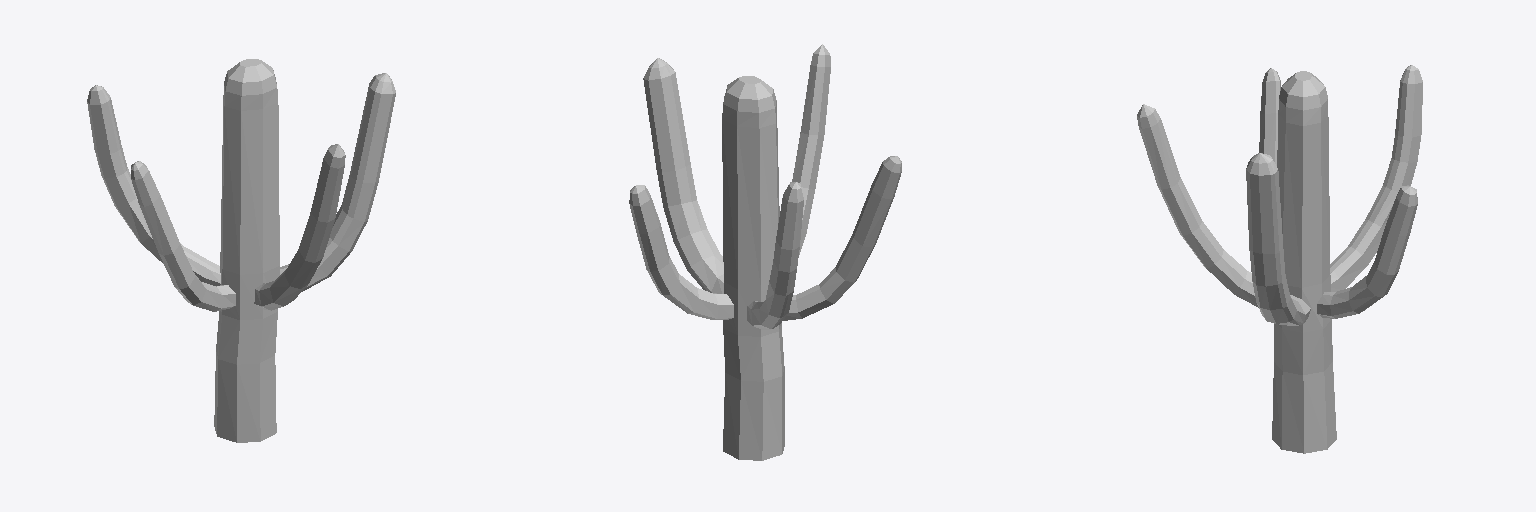
The model's file is Cactus5.obj.
The picture shows the model from 3 angles: view 1: azimuth 30°, elevation 25°; view 2: azimuth 150°, elevation 25°; view 3: azimuth 270°, elevation 25°; orthographic projection.
Visible parts, largest first — view 1: cactus_5; view 2: cactus_5; view 3: cactus_5.
Boxes of the visible parts, <box> form: cactus_5: <box>87,59,395,442</box>; cactus_5: <box>629,44,901,460</box>; cactus_5: <box>1137,65,1422,453</box>.
Bounding box in the file's own units: 200 × 272 × 193.